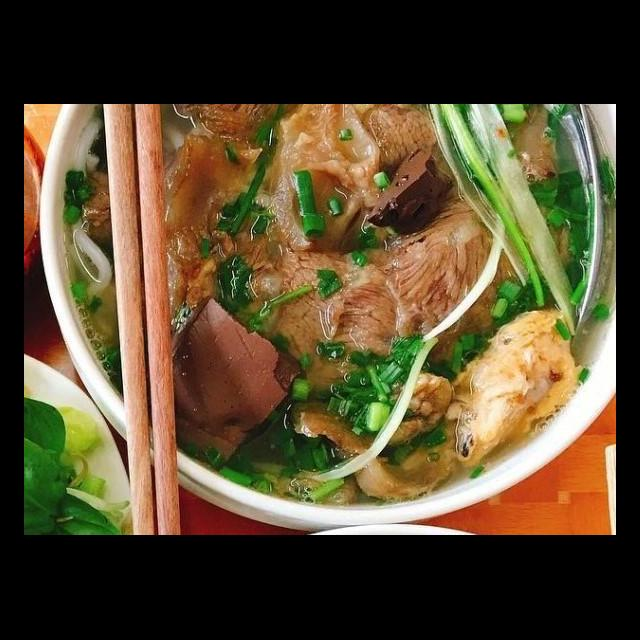bun: (59, 111, 113, 318)
bun bo: (46, 142, 616, 536)
thit bo: (384, 105, 577, 378), (262, 245, 435, 406)
